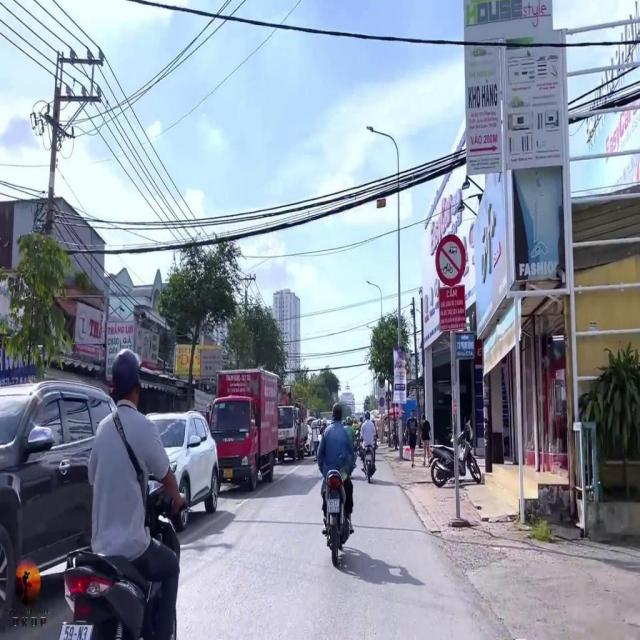cam_cac_loai_xe_3_banh: (436, 234, 466, 286)
